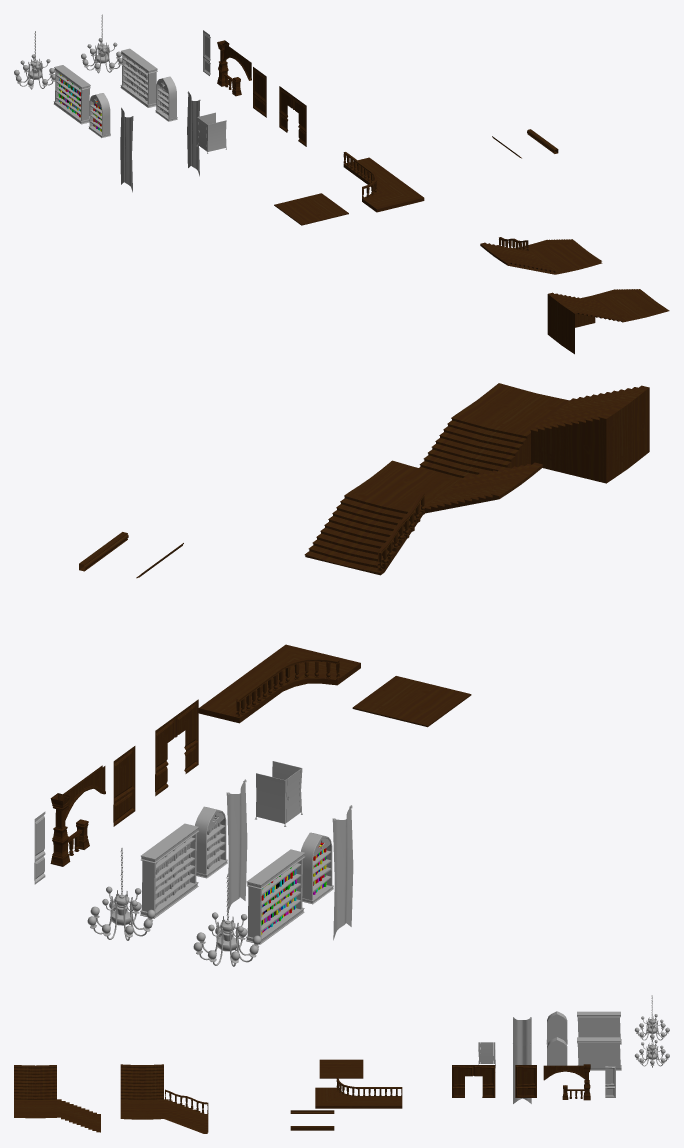
Rendered from Modules_03FBX.fbx.
The picture shows the model from 3 angles, top to bottom: view 1: azimuth 30°, elevation 25°; view 2: azimuth 150°, elevation 25°; view 3: azimuth 270°, elevation 25°; orthographic projection. The views are drawn at different scales.
Visible parts, largest first — view 1: Kit_Structures3_EscaleraGrande2, Kit_Structures3_EscaleraGrande, Kit_Structures3_BibliotecaGrande, Kit_Structures3_BibliotecaGrande1, Kit_Structures3_BalconConBarandaCurvo, Kit_Structures3_Piso, Kit_Structures3_Bandera1, Kit_Structures3_ParedPuerta, Kit_Structures3_Biblioteca1, Kit_Structures3_Bandera, Kit_Structures3_BalconConBaranda, Kit_Structures3_Biblioteca (+4 smaller); view 2: Kit_Structures3_EscaleraGrande2, Kit_Structures3_EscaleraGrande, Kit_Structures3_BibliotecaGrande1, Kit_Structures3_BibliotecaGrande, Kit_Structures3_Piso, Kit_Structures3_BalconConBarandaCurvo, Kit_Structures3_BalconConBaranda, Kit_Structures3_Bandera1, Kit_Structures3_ParedPuerta, Kit_Structures3_Bandera, Kit_Structures3_Biblioteca1, Kit_Structures3_Biblioteca (+6 smaller); view 3: Kit_Structures3_EscaleraGrande, Kit_Structures3_EscaleraGrande2, Kit_Structures3_BibliotecaGrande, Kit_Structures3_BibliotecaGrande1, Kit_Structures3_ParedPuerta, Kit_Structures3_BalconConBarandaCurvo, Kit_Structures3_Piso, Kit_Structures3_BalconConBaranda, Kit_Structures3_Pared, Kit_Structures3_Biblioteca1, Kit_Structures3_Biblioteca, Kit_Structures3_Bandera (+8 smaller).
Part boxes in pixels (x1,y1,x2,y2): Kit_Structures3_EscaleraGrande2: (547, 289, 669, 354); Kit_Structures3_EscaleraGrande: (480, 239, 602, 274); Kit_Structures3_BibliotecaGrande: (120, 48, 157, 107); Kit_Structures3_BibliotecaGrande1: (53, 65, 90, 124); Kit_Structures3_BalconConBarandaCurvo: (362, 172, 424, 212); Kit_Structures3_Piso: (274, 193, 348, 225); Kit_Structures3_Bandera1: (120, 107, 133, 192); Kit_Structures3_ParedPuerta: (279, 86, 306, 146); Kit_Structures3_Biblioteca1: (88, 93, 110, 137); Kit_Structures3_Bandera: (187, 91, 200, 176); Kit_Structures3_BalconConBaranda: (343, 152, 396, 186); Kit_Structures3_Biblioteca: (155, 76, 177, 121); Kit_Structures3_EscaleraGrande2: (419, 383, 649, 483); Kit_Structures3_EscaleraGrande: (304, 460, 542, 575); Kit_Structures3_BibliotecaGrande1: (246, 849, 304, 944); Kit_Structures3_BibliotecaGrande: (140, 823, 199, 918); Kit_Structures3_Piso: (352, 676, 471, 727); Kit_Structures3_BalconConBarandaCurvo: (242, 644, 360, 691); Kit_Structures3_BalconConBaranda: (198, 667, 282, 723); Kit_Structures3_Bandera1: (332, 805, 353, 940); Kit_Structures3_ParedPuerta: (155, 699, 198, 796); Kit_Structures3_Bandera: (226, 779, 247, 913); Kit_Structures3_Biblioteca1: (301, 832, 333, 904); Kit_Structures3_Biblioteca: (195, 806, 227, 878); Kit_Structures3_EscaleraGrande: (120, 1064, 208, 1133); Kit_Structures3_EscaleraGrande2: (14, 1065, 100, 1132); Kit_Structures3_BibliotecaGrande: (577, 1037, 621, 1070); Kit_Structures3_BibliotecaGrande1: (577, 1011, 621, 1044); Kit_Structures3_ParedPuerta: (452, 1065, 495, 1097); Kit_Structures3_BalconConBarandaCurvo: (315, 1078, 358, 1108); Kit_Structures3_Piso: (319, 1059, 363, 1078); Kit_Structures3_BalconConBaranda: (358, 1087, 402, 1108); Kit_Structures3_Pared: (515, 1065, 536, 1097); Kit_Structures3_Biblioteca1: (546, 1011, 567, 1044); Kit_Structures3_Biblioteca: (547, 1037, 567, 1065); Kit_Structures3_Bandera: (513, 1043, 531, 1103).
Size of the model in its own units: 3961 by 1215 by 9051.
9 materials, 1 textured.
